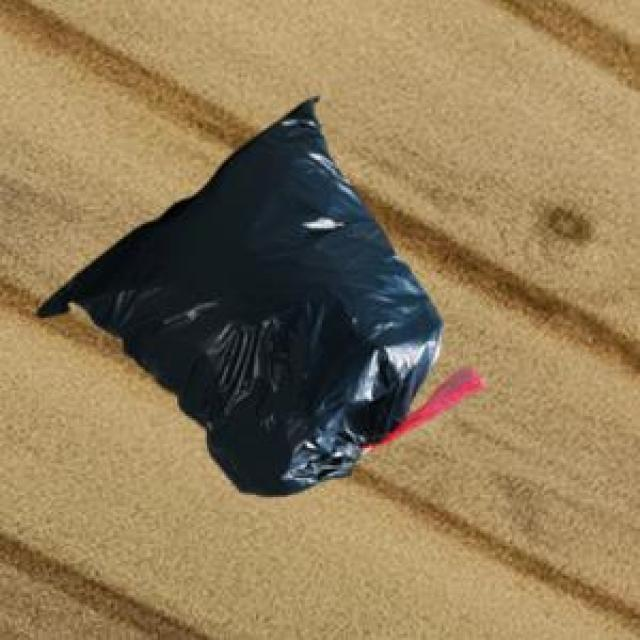miscellaneous trash: (34, 94, 480, 493)
